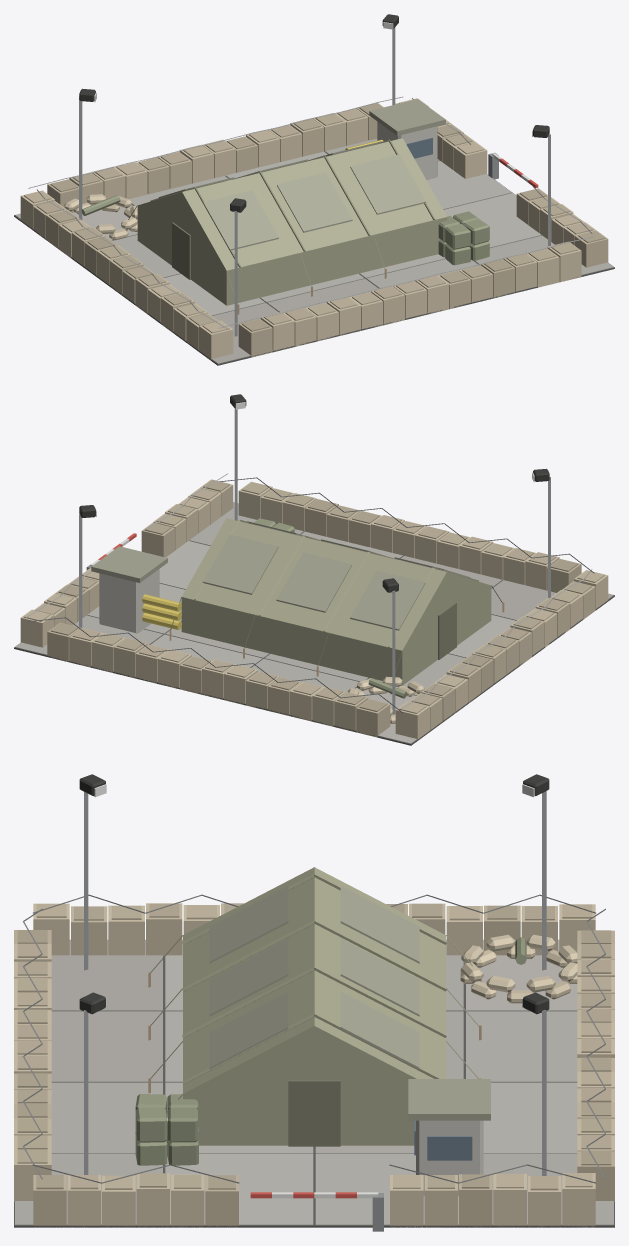
The model's file is b_atpost.glb.
3 renders of one model, top to bottom at view 1: azimuth 30°, elevation 25°; view 2: azimuth 150°, elevation 25°; view 3: azimuth 270°, elevation 25°, orthographic. The views are drawn at different scales.
Parts seen in each view (by area): view 1: hull; view 2: hull; view 3: hull.
Part boxes in pixels (x1,y1,x2,y2): hull: [14, 14, 614, 365]; hull: [14, 394, 614, 745]; hull: [14, 774, 614, 1231].
Size of the model in its own units: 18.25 by 5.78 by 16.
